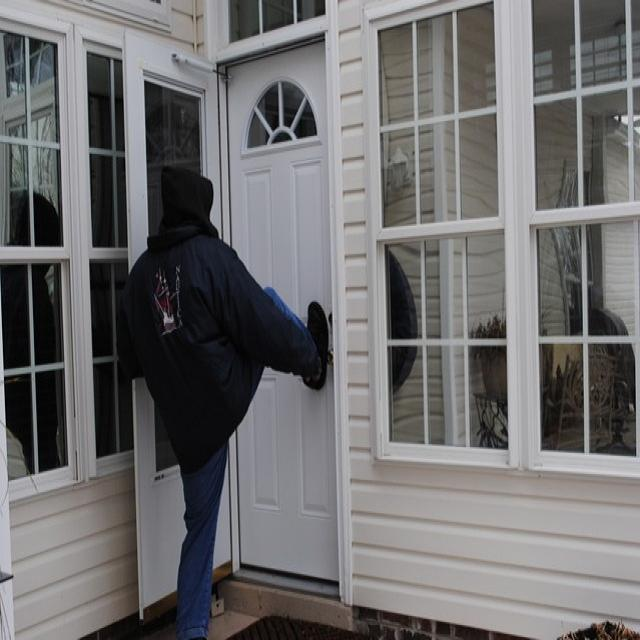intrusion detected: (113, 161, 334, 635)
